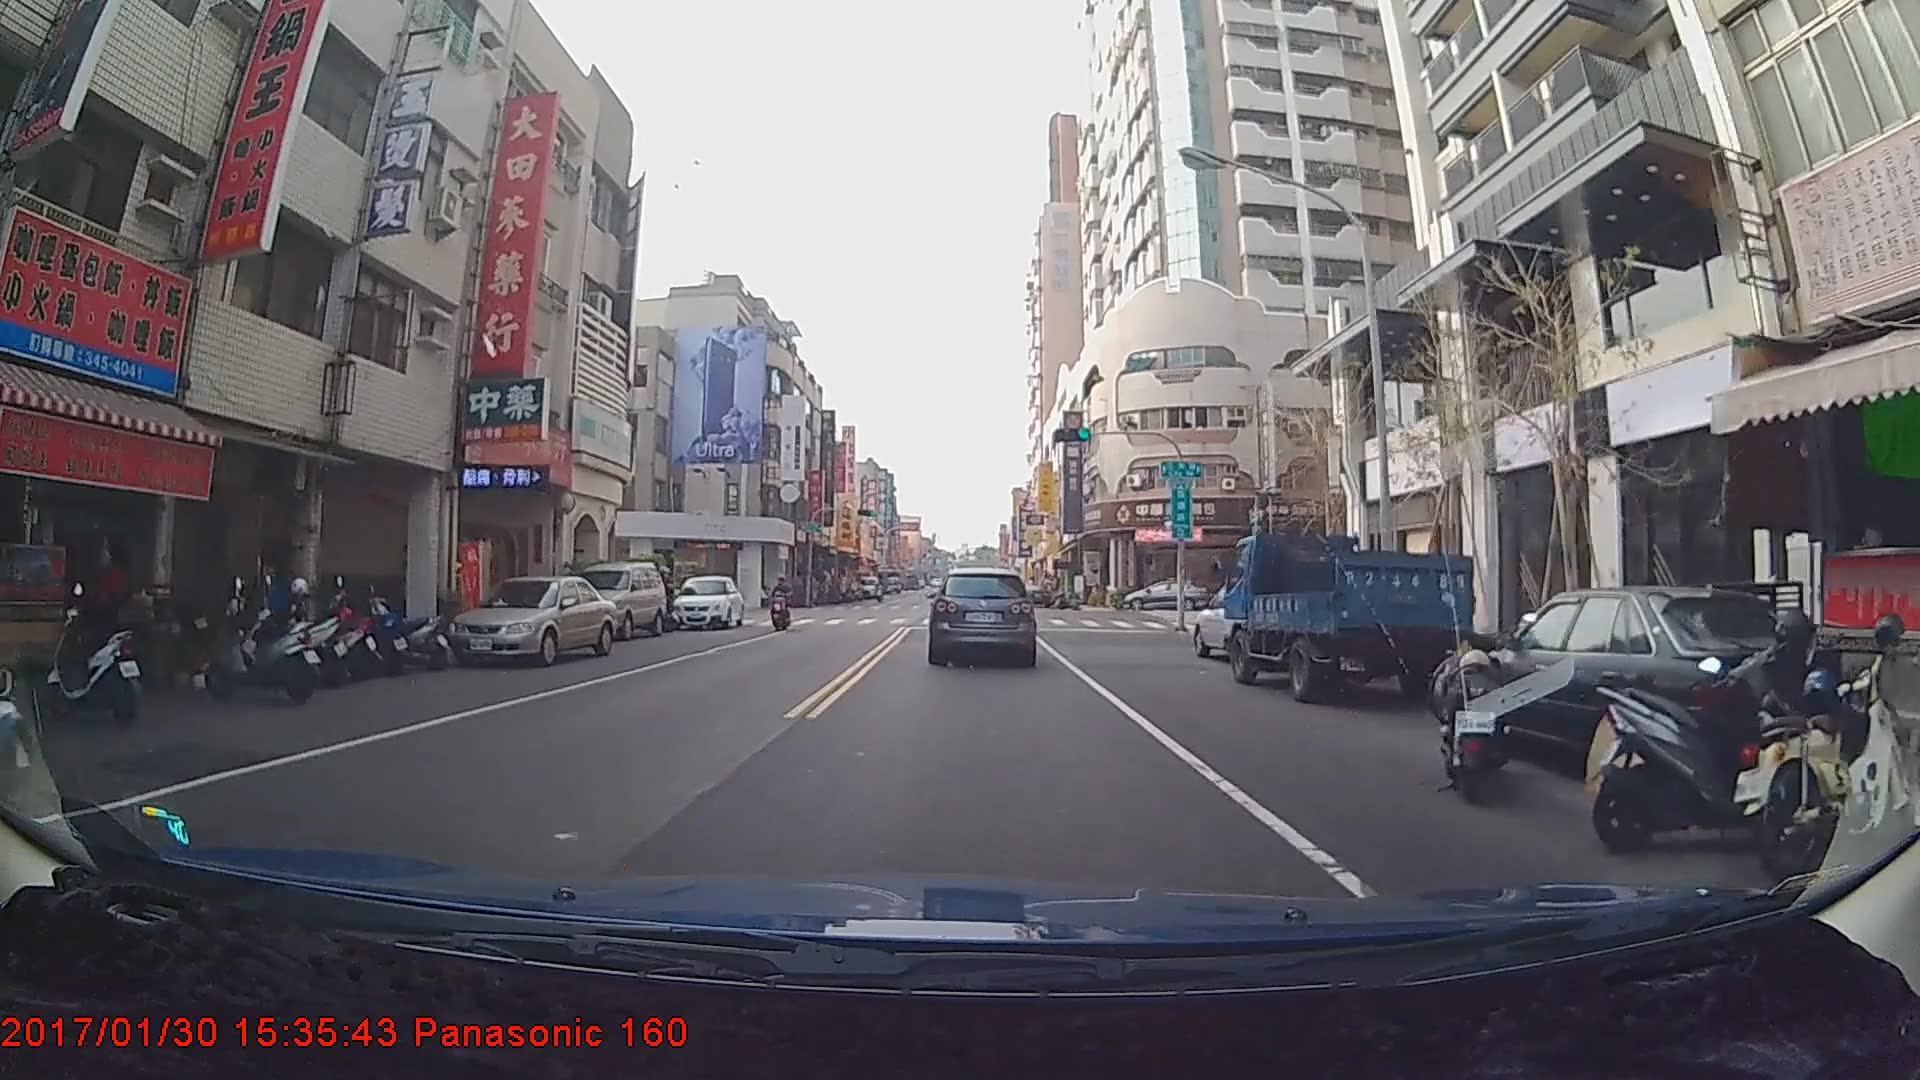rider: (771, 578, 794, 633)
vehicle: (1224, 534, 1476, 704), (445, 574, 612, 667), (1190, 579, 1322, 666), (928, 568, 1036, 665), (562, 559, 666, 643), (671, 574, 741, 629), (1122, 580, 1206, 613), (856, 574, 880, 599)
